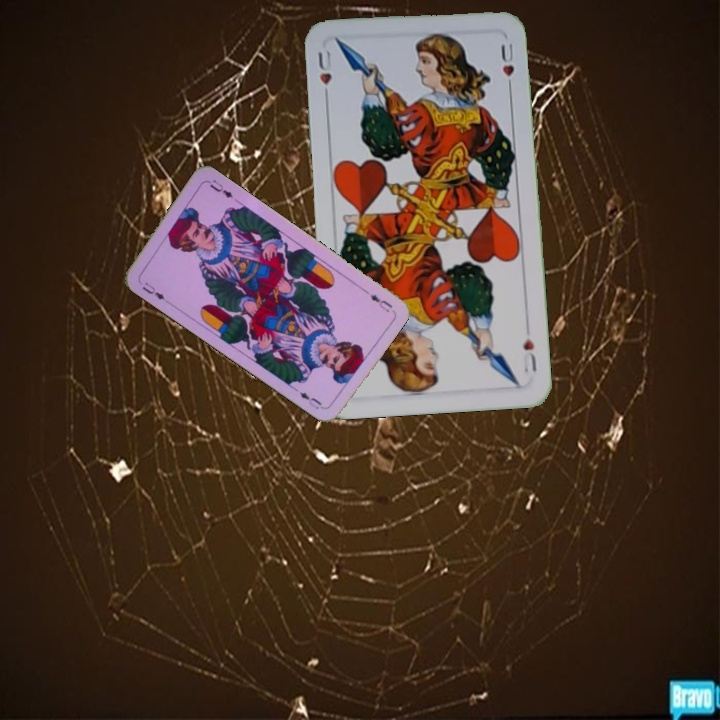EU: (138, 278, 171, 304), (366, 290, 395, 315)
HU: (314, 46, 335, 104), (519, 334, 540, 376)
